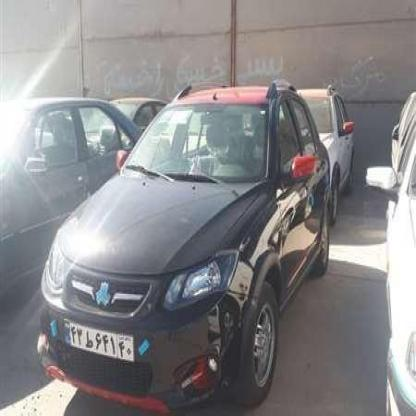Car: (68, 95, 333, 400), (0, 105, 146, 330), (372, 88, 416, 416), (296, 80, 354, 180)
